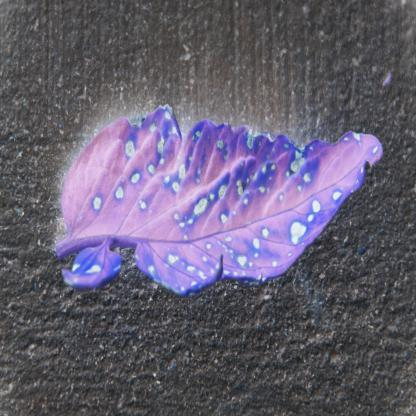tomato early blight leaf: (60, 108, 387, 299)
